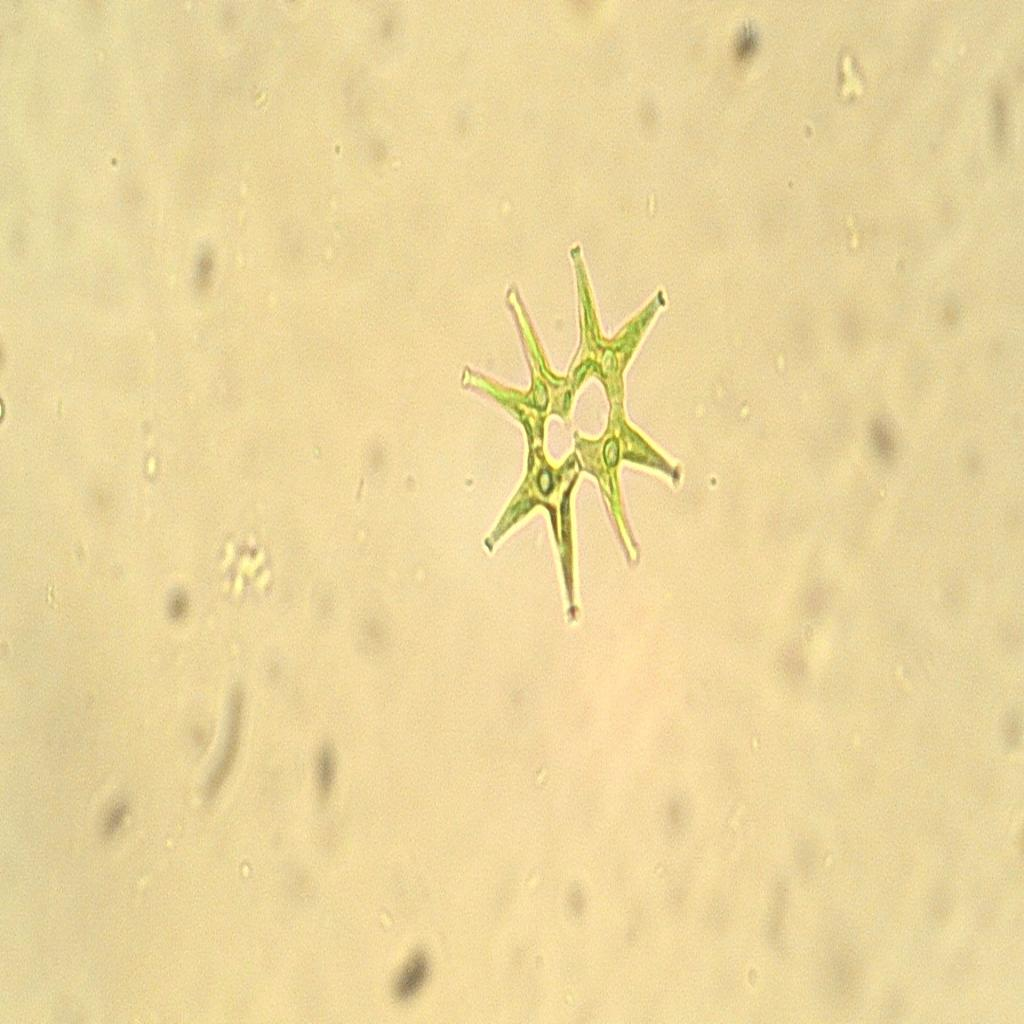Pediastrum_CF: (446, 189, 686, 642)
